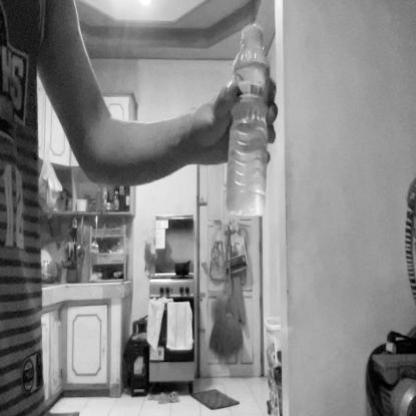Plastic Bottle: (226, 25, 269, 220)
